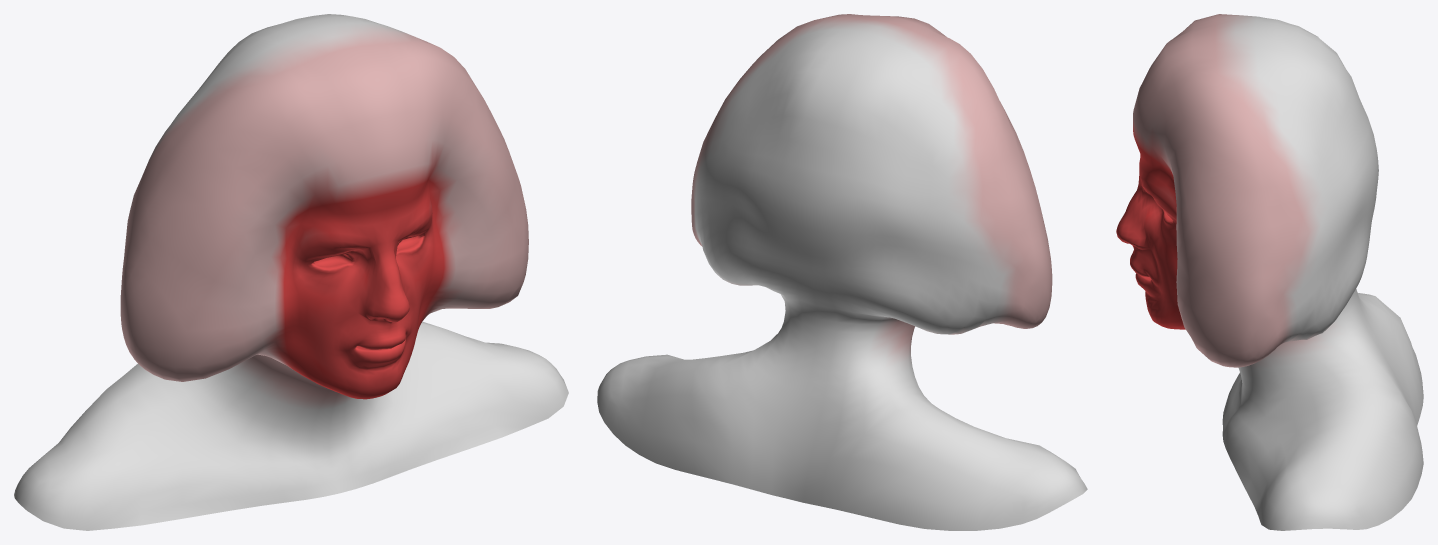
The model's file is head.fbx.
3 views of the same model, side by side, from view 1: azimuth 30°, elevation 25°; view 2: azimuth 150°, elevation 25°; view 3: azimuth 270°, elevation 25° (orthographic). The views are drawn at different scales.
Visible parts, largest first — view 1: DemoHead; view 2: DemoHead; view 3: DemoHead.
Part boxes in pixels (x1=…): DemoHead: x1=14, y1=14, x2=568, y2=530; DemoHead: x1=597, y1=14, x2=1087, y2=530; DemoHead: x1=1116, y1=14, x2=1423, y2=530.
Size of the model in its own units: 1829 by 1500 by 1033.
